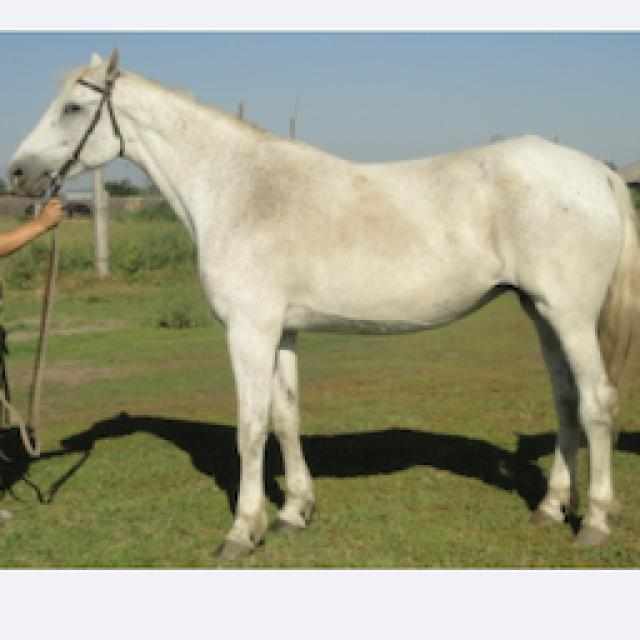Horse: (0, 45, 638, 558)
